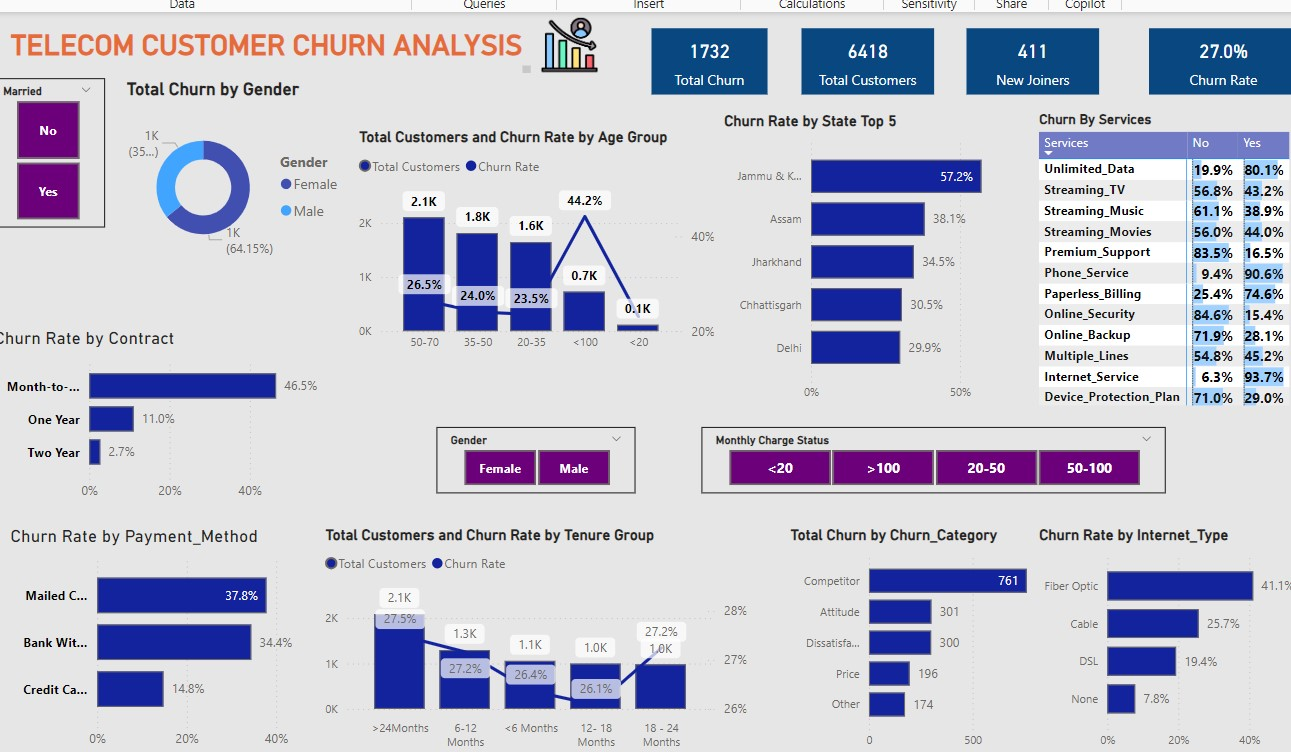

This screenshot's page, from the dashboard's own definition file:
{"tool":"powerbi","page":{"name":"Overview","canvas":[1280,720],"ordinal":0},"visuals":[{"type":"card","fields":{"Values":["Metrices.Total Customers"]},"box":[784,16,128,64],"z":0},{"type":"card","fields":{"Values":["Metrices.Total Churn"]},"box":[640,16,112,64],"z":1000},{"type":"card","fields":{"Values":["Metrices.New Joiners"]},"box":[944,16,128,64],"z":2000},{"type":"card","fields":{"Values":["Metrices.Churn Rate"]},"box":[1120,16,144,64],"z":3000},{"type":"donutChart","fields":{"Y":["Metrices.Total Churn"],"Category":["prod_Churn.Gender"]},"box":[128,64,224,192],"z":4000},{"type":"lineStackedColumnComboChart","fields":{"Category":["Mapping_Age.Age Group "],"Y":["Metrices.Total Customers"],"Y2":["Metrices.Churn Rate"]},"box":[352,112,352,224],"z":5000},{"type":"barChart","fields":{"Y":["Metrices.Churn Rate"],"Category":["prod_Churn.Payment_Method"]},"box":[16,496,368,224],"z":6000},{"type":"barChart","fields":{"Y":["Metrices.Churn Rate"],"Category":["prod_Churn.Contract"]},"box":[0,304,416,176],"z":7000},{"type":"lineClusteredColumnComboChart","fields":{"Category":["Mapping_Tenure.Tenure Group"],"Y":["Metrices.Total Customers"],"Y2":["Metrices.Churn Rate"]},"box":[352,496,416,224],"z":8000},{"type":"clusteredBarChart","title":"Churn Rate by State Top 5","fields":{"Category":["prod_Churn.State"],"Y":["Metrices.Churn Rate"]},"box":[704,96,304,288],"z":9000},{"type":"clusteredBarChart","fields":{"Y":["Metrices.Total Churn"],"Category":["prod_Churn.Churn_Category"]},"box":[768,496,272,224],"z":10000},{"type":"barChart","fields":{"Category":["prod_Churn.Internet_Type"],"Y":["Metrices.Churn Rate"]},"box":[1008,496,272,224],"z":11000},{"type":"pivotTable","title":"Churn By Services","fields":{"Rows":["Prod_services.Services"],"Values":["Sum(Prod_services.Churn status )"],"Columns":["Prod_services.Status"]},"box":[1008,96,272,288],"z":12000},{"type":"slicer","fields":{"Values":["Prod_services.Monthly Charge Status"]},"box":[688,400,448,64],"z":13000},{"type":"slicer","fields":{"Values":["Prod_services.Married"]},"box":[16,64,96,128],"z":14000},{"type":"textbox","title":"TELECOM CUSTOMER CHURN ANALYSIS","box":[16,16,512,48],"z":15000},{"type":"image","box":[528,0,64,64],"z":16000},{"type":"slicer","fields":{"Values":["Prod_services.Gender"]},"box":[432,400,192,64],"z":18000}]}

Visuals, with their boxes on the page's 1280x720 design canvas (x1, y1, x2, y2). These are canvas units, not pixel positions in the 1291x752 screenshot, which may show the page scaled, cropped or inside an application window:
card - Metrices.Total Customers: [left=784, top=16, right=912, bottom=80]
card - Metrices.Total Churn: [left=640, top=16, right=752, bottom=80]
card - Metrices.New Joiners: [left=944, top=16, right=1072, bottom=80]
card - Metrices.Churn Rate: [left=1120, top=16, right=1264, bottom=80]
donutChart - Metrices.Total Churn x prod_Churn.Gender: [left=128, top=64, right=352, bottom=256]
lineStackedColumnComboChart - Mapping_Age.Age Group  x Metrices.Total Customers: [left=352, top=112, right=704, bottom=336]
barChart - Metrices.Churn Rate x prod_Churn.Payment_Method: [left=16, top=496, right=384, bottom=720]
barChart - Metrices.Churn Rate x prod_Churn.Contract: [left=0, top=304, right=416, bottom=480]
lineClusteredColumnComboChart - Mapping_Tenure.Tenure Group x Metrices.Total Customers: [left=352, top=496, right=768, bottom=720]
"Churn Rate by State Top 5" clusteredBarChart: [left=704, top=96, right=1008, bottom=384]
clusteredBarChart - Metrices.Total Churn x prod_Churn.Churn_Category: [left=768, top=496, right=1040, bottom=720]
barChart - prod_Churn.Internet_Type x Metrices.Churn Rate: [left=1008, top=496, right=1280, bottom=720]
"Churn By Services" pivotTable: [left=1008, top=96, right=1280, bottom=384]
slicer - Prod_services.Monthly Charge Status: [left=688, top=400, right=1136, bottom=464]
slicer - Prod_services.Married: [left=16, top=64, right=112, bottom=192]
"TELECOM CUSTOMER CHURN ANALYSIS" textbox: [left=16, top=16, right=528, bottom=64]
image: [left=528, top=0, right=592, bottom=64]
slicer - Prod_services.Gender: [left=432, top=400, right=624, bottom=464]
